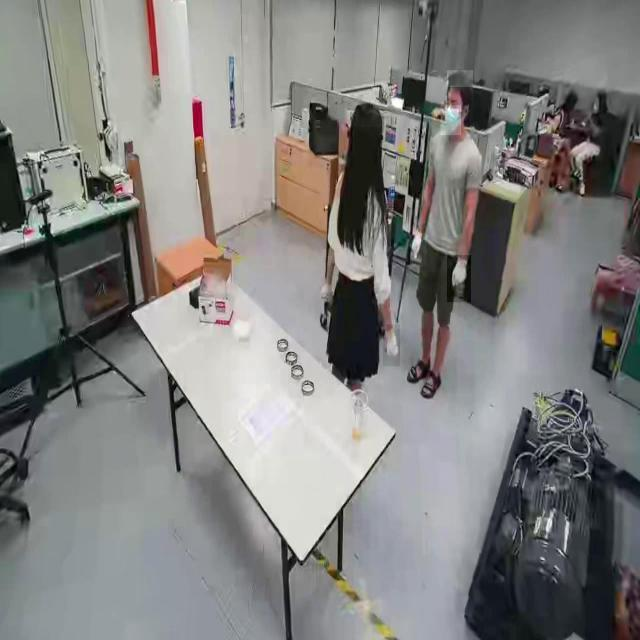gloves: (446, 255, 472, 303), (383, 324, 401, 368), (412, 226, 427, 268)
